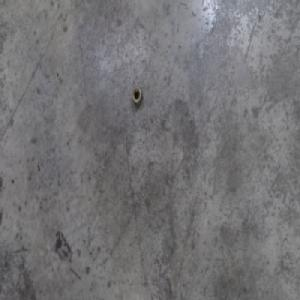Nut: (131, 85, 143, 107)
